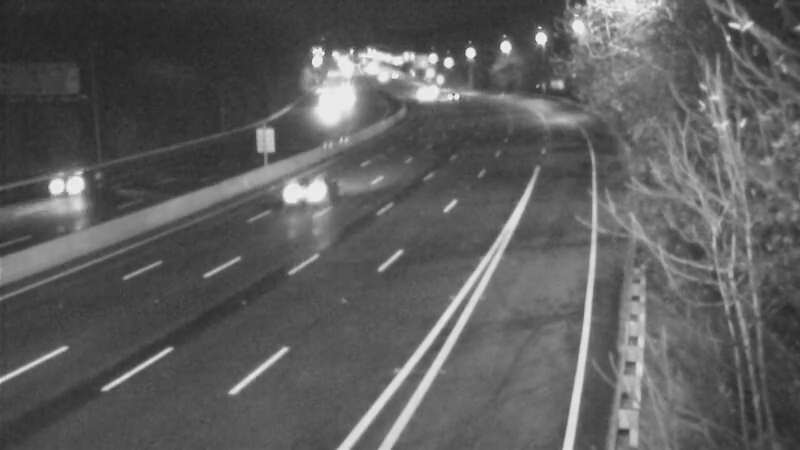vehicle: (272, 150, 352, 230), (26, 140, 106, 220), (398, 70, 448, 120), (424, 72, 474, 122)
